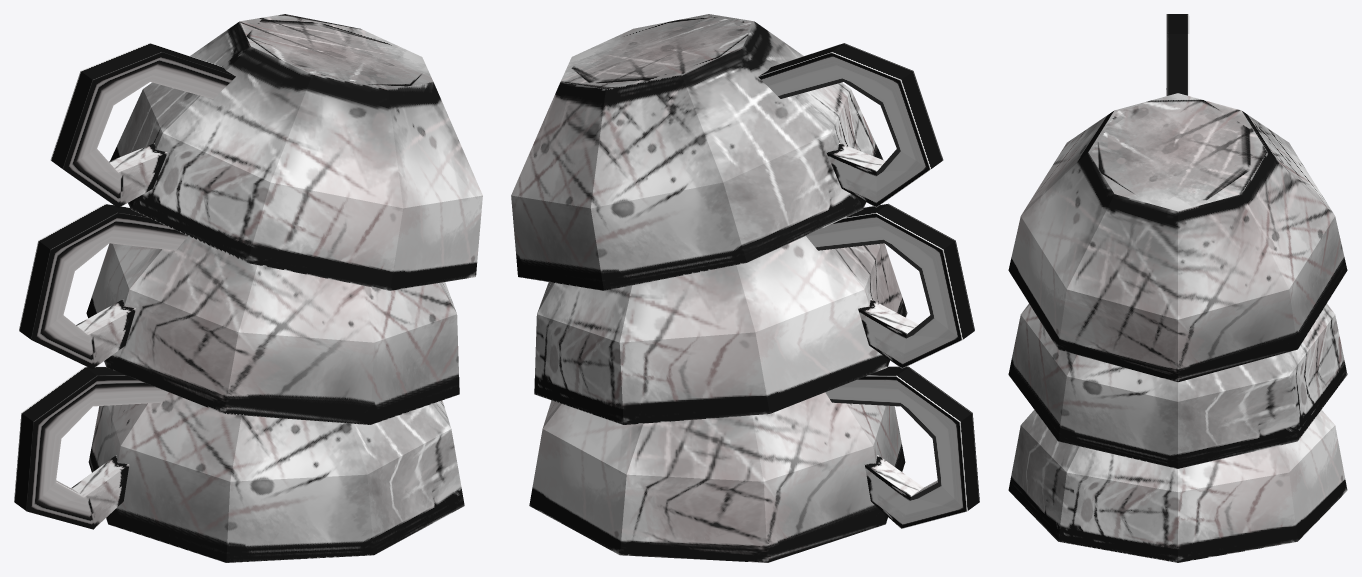
File: mug_stack.glb
The picture shows the model from 3 angles, left to right: view 1: azimuth 30°, elevation 25°; view 2: azimuth 150°, elevation 25°; view 3: azimuth 270°, elevation 25°; orthographic projection. The views are drawn at different scales.
Parts seen in each view (by area): view 1: Mug Empty.001; view 2: Mug Empty.001; view 3: Mug Empty.001.
Part boxes in pixels (x1,y1,x2,y2): Mug Empty.001: (14,14,482,562); Mug Empty.001: (511,14,979,562); Mug Empty.001: (1008,14,1347,562).
Size of the model in its own units: 0.1973 by 0.1987 by 0.1503.
1 material, 1 textured.
